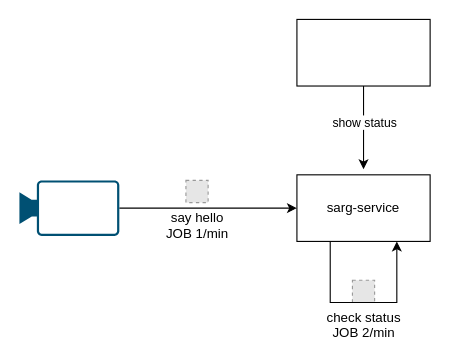
Image size: 450x362. Some labels were removed from this diagram. Grey dashed boxes stand in for pictures. The centre of each missing label's shape, as x and y in pixels:
DAP: the point at 69,207
sarg-web: the point at 363,52
